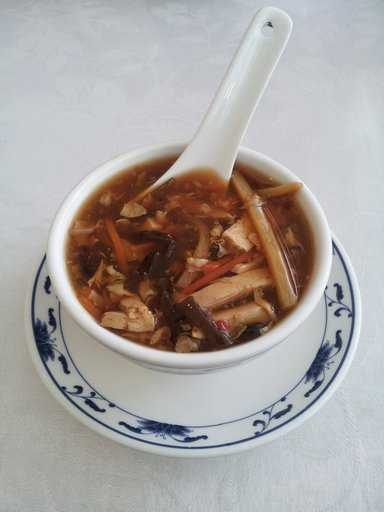soup: (60, 145, 335, 372)
